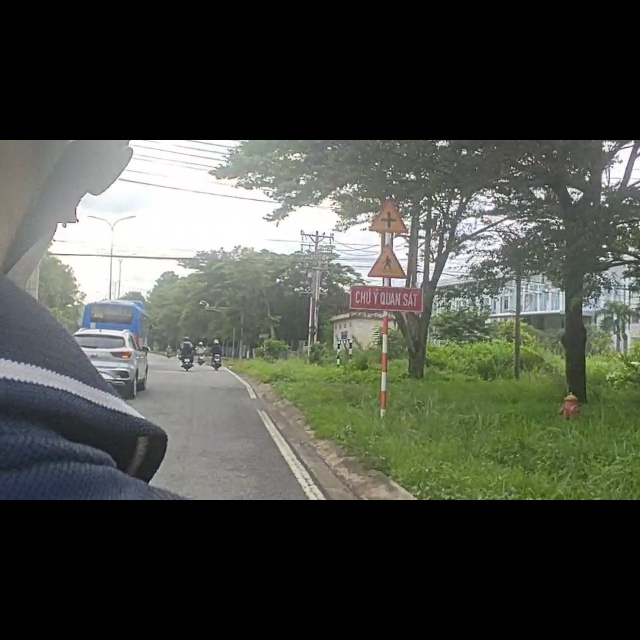bien_nguy_hiem: (365, 185, 414, 252), (369, 103, 413, 167)
